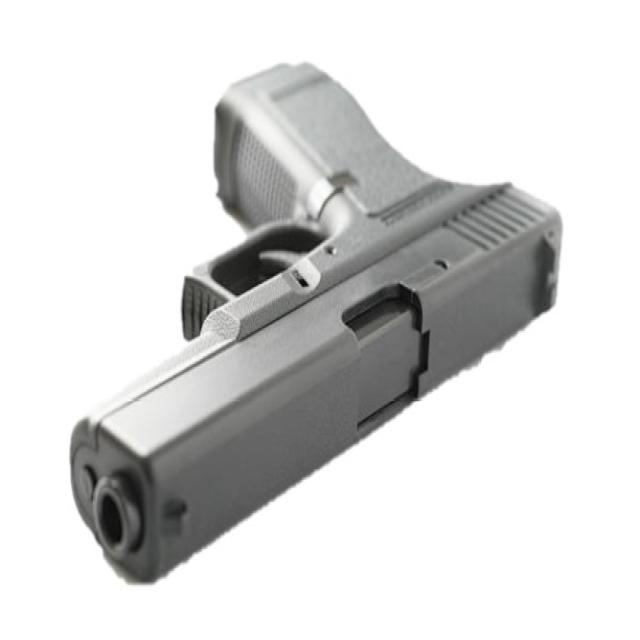pistol: (63, 57, 572, 592)
